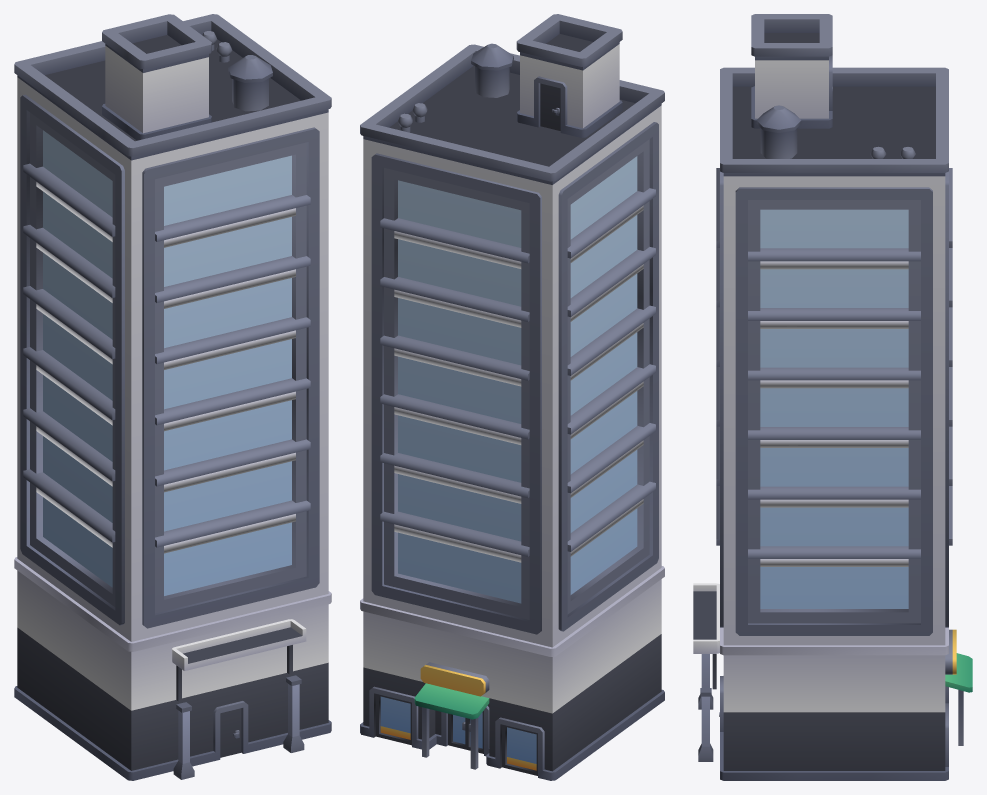
Rendered from office_tower_c.glb.
3 renders of one model, left to right at view 1: azimuth 30°, elevation 25°; view 2: azimuth 150°, elevation 25°; view 3: azimuth 270°, elevation 25°, orthographic. The views are drawn at different scales.
Parts seen in each view (by area): view 1: office_tower_c_building-skyscraper-c, detail-overhang-wide, bridge-pillar.001, bridge-pillar; view 2: office_tower_c_building-skyscraper-c; view 3: office_tower_c_building-skyscraper-c, detail-overhang-wide, bridge-pillar.001.
Boxes of the visible parts, x1,y1,x2,y2 form: office_tower_c_building-skyscraper-c: (14, 14, 331, 780); detail-overhang-wide: (172, 619, 306, 701); bridge-pillar.001: (283, 675, 304, 752); bridge-pillar: (173, 702, 194, 779); office_tower_c_building-skyscraper-c: (360, 14, 664, 780); office_tower_c_building-skyscraper-c: (716, 14, 972, 780); detail-overhang-wide: (693, 583, 719, 689); bridge-pillar.001: (698, 688, 713, 761).
Bounding box in the file's own units: 10.35 × 33 × 12.23.
4 materials, 4 textured.
